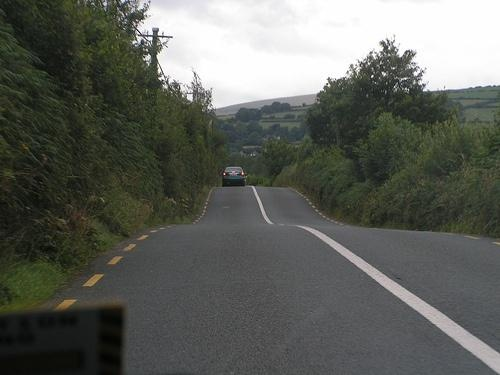car: (222, 167, 248, 187)
